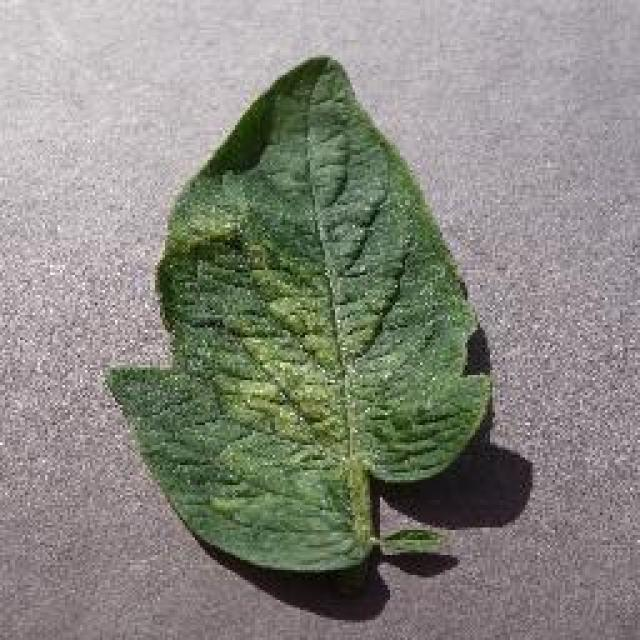Tomato___Spider_mites Two-spotted_spider_mite: (108, 58, 490, 570)
